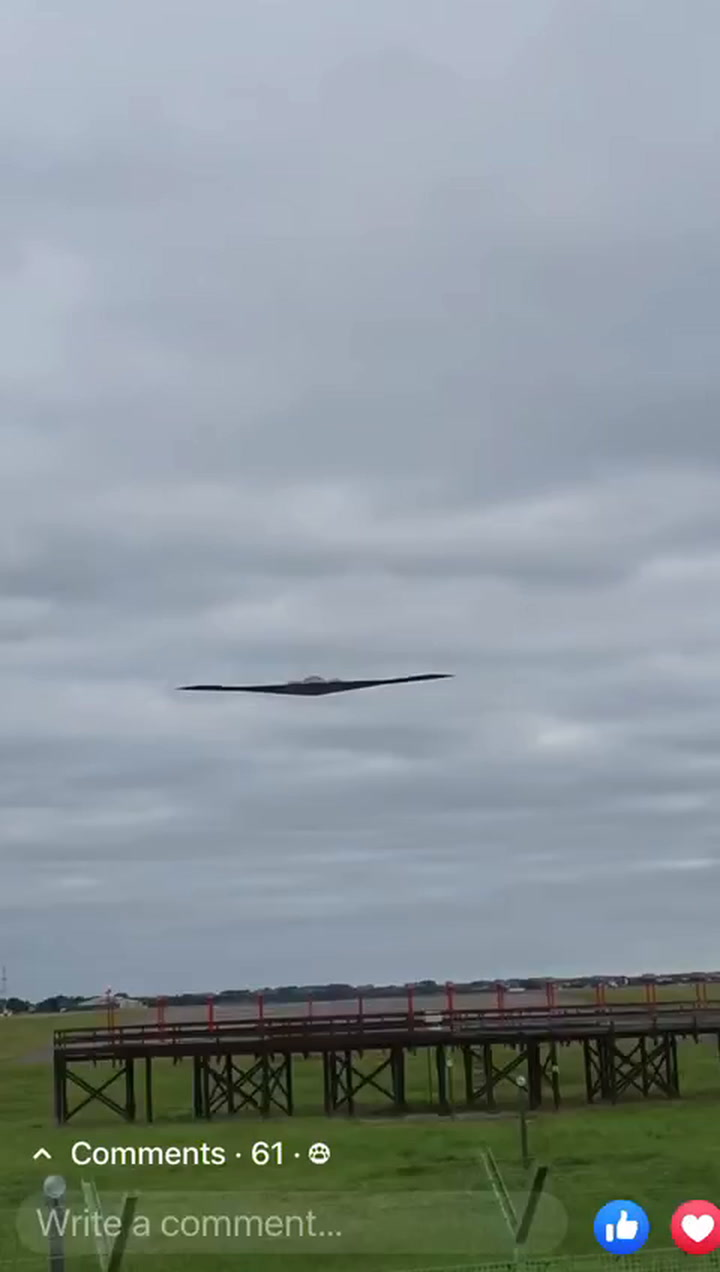B2: (173, 672, 456, 696)
